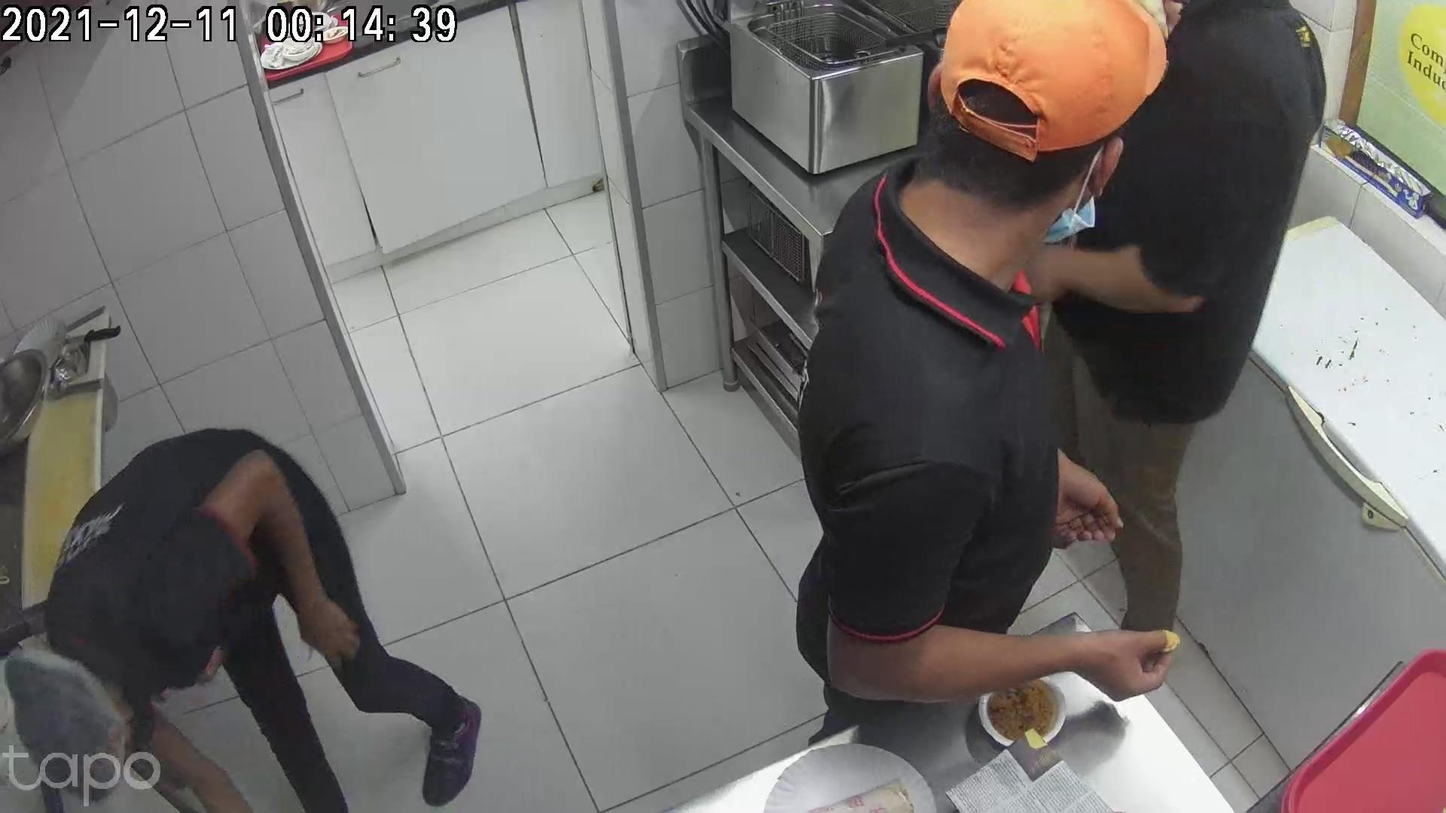gloves: (714, 573, 794, 724)
